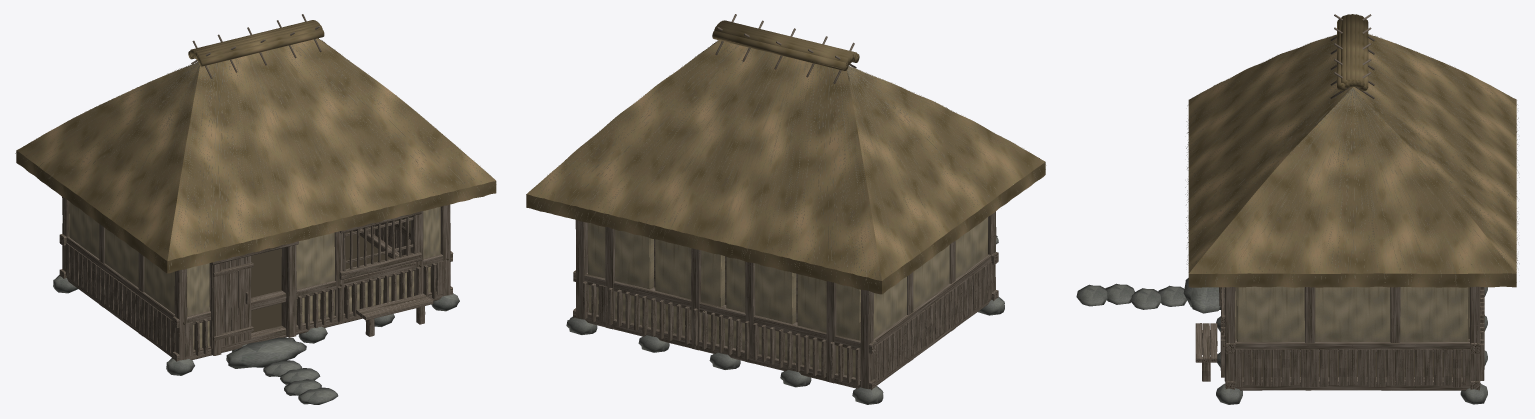
Rendered from farmhouse.glb.
3 renders of one model, left to right at view 1: azimuth 30°, elevation 25°; view 2: azimuth 150°, elevation 25°; view 3: azimuth 270°, elevation 25°, orthographic. The views are drawn at different scales.
Parts seen in each view (by area): view 1: Farmhouse_Game_LOD0; view 2: Farmhouse_Game_LOD0; view 3: Farmhouse_Game_LOD0.
Part boxes in pixels (x1,y1,x2,y2): Farmhouse_Game_LOD0: (15,14,496,404); Farmhouse_Game_LOD0: (526,14,1046,404); Farmhouse_Game_LOD0: (1076,14,1519,404).
Bounding box in the file's own units: 7.38 × 5.62 × 7.8.
12 materials, 4 textured.
